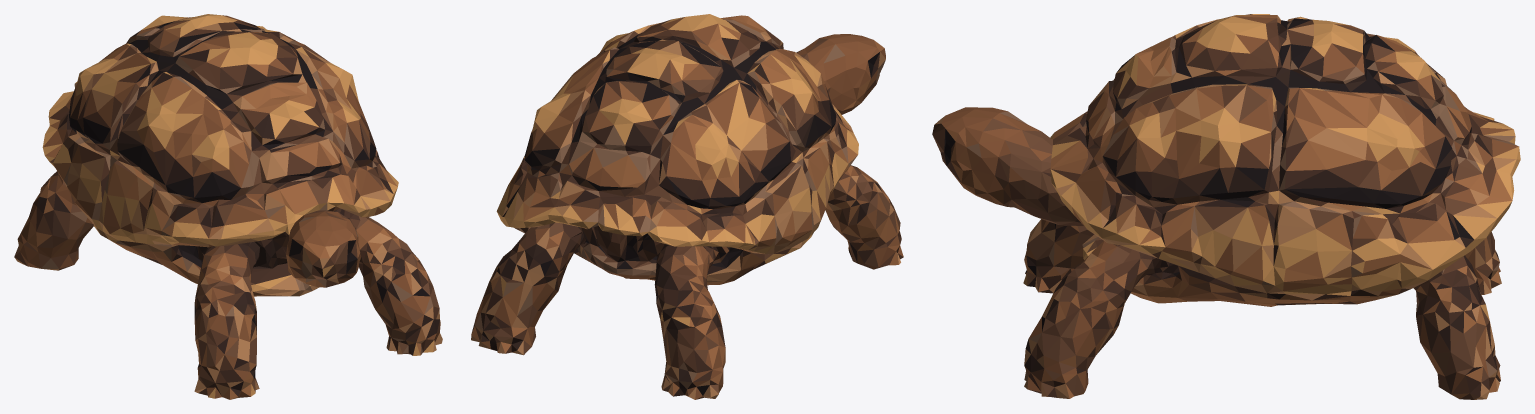
The model's file is stigmochelys_pardalis.glb.
The picture shows the model from 3 angles, left to right: view 1: azimuth 30°, elevation 25°; view 2: azimuth 150°, elevation 25°; view 3: azimuth 270°, elevation 25°; orthographic projection. The views are drawn at different scales.
Visible parts, largest first — view 1: lod0; view 2: lod0; view 3: lod0.
Part boxes in pixels (x1,y1,x2,y2): lod0: [14, 14, 442, 399]; lod0: [471, 14, 903, 399]; lod0: [932, 14, 1520, 399].
Size of what is drawn, in the model's own units: 0.333 by 0.3304 by 0.5623.
